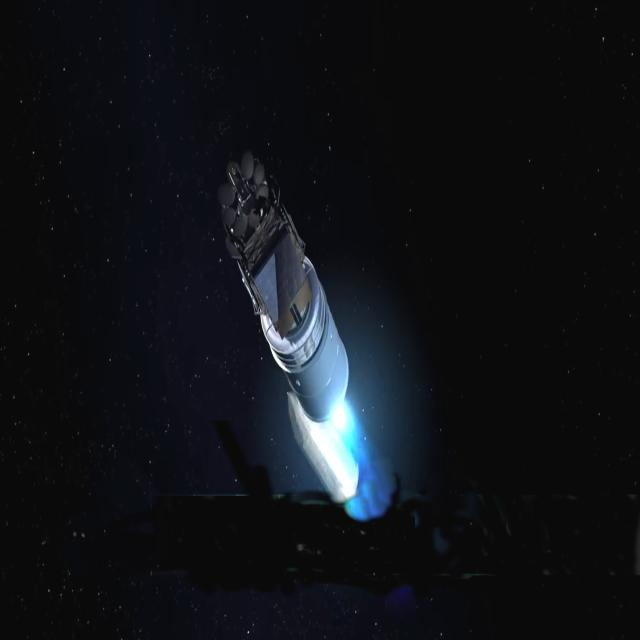medium_debris: (219, 125, 385, 524)
